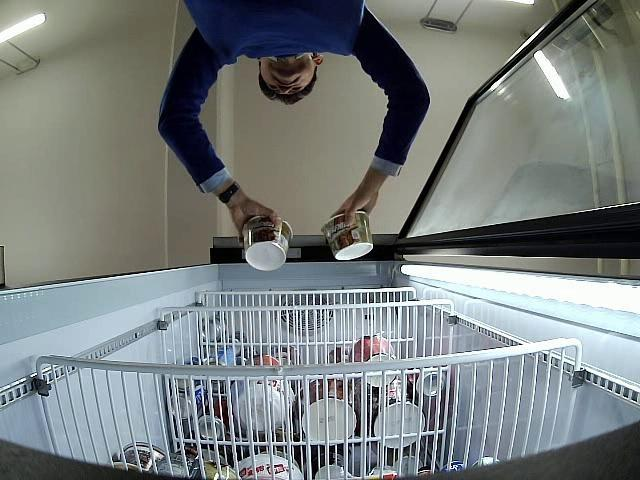03_chapagetti_L: (242, 216, 293, 271), (322, 211, 373, 260)
